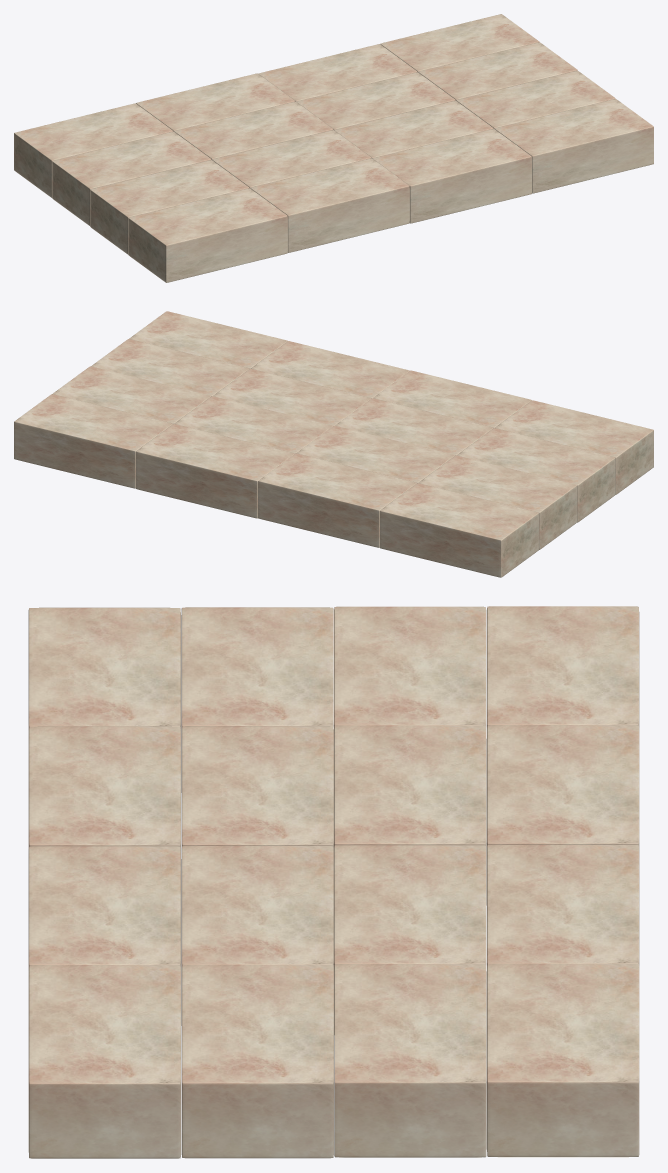
The model's file is FloorTEST.fbx.
3 renders of one model, top to bottom at view 1: azimuth 30°, elevation 25°; view 2: azimuth 150°, elevation 25°; view 3: azimuth 270°, elevation 25°, orthographic. The views are drawn at different scales.
Parts seen in each view (by area): view 1: polySurface9; view 2: polySurface9; view 3: polySurface9.
Boxes of the visible parts, box(x1,y1,x2,y2) form: polySurface9: box(14, 14, 653, 282); polySurface9: box(14, 311, 653, 577); polySurface9: box(28, 606, 639, 1158).
Size of the model in its own units: 16.2 by 1.25 by 8.78.
1 material, 1 textured.
